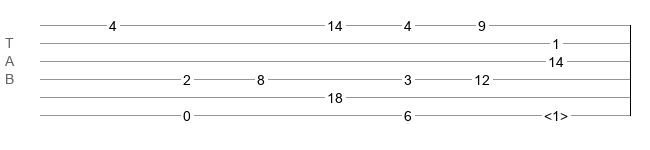0: (183, 108, 191, 118)
1: (552, 36, 560, 46)
12: (474, 72, 490, 82)
14: (327, 18, 343, 28), (548, 54, 564, 64)
18: (327, 90, 343, 100)
2: (183, 72, 191, 82)
3: (404, 72, 412, 82)
4: (109, 18, 117, 28), (404, 18, 412, 28)
6: (404, 108, 412, 118)
8: (257, 72, 265, 82)
9: (478, 18, 486, 28)
harmonic: (544, 108, 568, 118)
